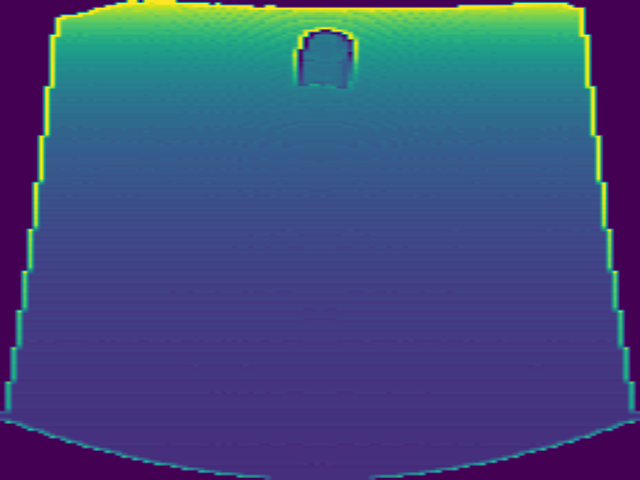car_0027: (291, 27, 359, 93)
